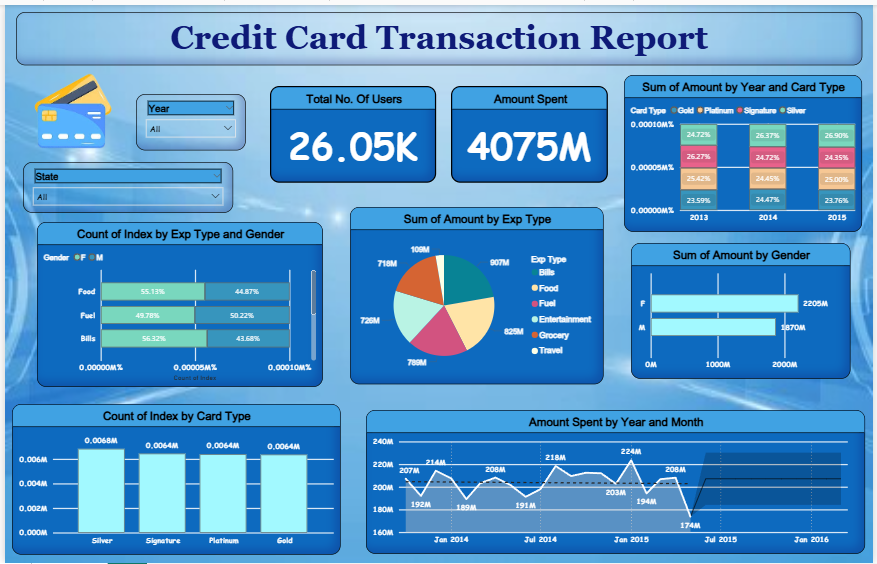

The dashboard page shown, as its layout file describes it:
{"tool":"powerbi","page":{"name":"Page 1","canvas":[1400,900],"ordinal":0},"visuals":[{"type":"clusteredColumnChart","fields":{"Category":["Credit card transactions - India - Simple.Card Type"],"Y":["Count(Credit card transactions - India - Simple.Index)"]},"box":[11.9,642.9,529.8,242.6],"z":0},{"type":"hundredPercentStackedBarChart","fields":{"Category":["Credit card transactions - India - Simple.Exp Type"],"Y":["Count(Credit card transactions - India - Simple.Index)"],"Series":["Credit card transactions - India - Simple.Gender"]},"box":[52.1,349.7,461.3,266.4],"z":1000},{"type":"hundredPercentStackedColumnChart","fields":{"Category":["Credit card transactions - India - Simple.Year"],"Y":["Sum(Credit card transactions - India - Simple.Amount)"],"Series":["Credit card transactions - India - Simple.Card Type"]},"box":[998.5,113.1,383.9,253],"z":2000},{"type":"clusteredBarChart","fields":{"Category":["Credit card transactions - India - Simple.Gender"],"Y":["Sum(Credit card transactions - India - Simple.Amount)"]},"box":[1008.9,383.9,354.2,218.8],"z":3000},{"type":"card","title":"Amount Spent","fields":{"Values":["Sum(Credit card transactions - India - Simple.Amount)"]},"box":[720.1,131,253,156.3],"z":4000},{"type":"pieChart","fields":{"Category":["Credit card transactions - India - Simple.Exp Type"],"Y":["Sum(Credit card transactions - India - Simple.Amount)"]},"box":[556.6,325.9,409.2,285.7],"z":5000},{"type":"card","title":"Total No. Of Users","fields":{"Values":["Count(Credit card transactions - India - Simple.Index)"]},"box":[426.9,131,267.9,156.3],"z":6000},{"type":"textbox","box":[17.9,11.9,1364.6,86.3],"z":7000},{"type":"lineChart","title":"Amount Spent by Year and Month","fields":{"Y":["Sum(Credit card transactions - India - Simple.Amount)"],"Category":["Credit card transactions - India - Simple.Date.Variation.Date Hierarchy.Year","Credit card transactions - India - Simple.Date.Variation.Date Hierarchy.Month"]},"box":[581.8,653.3,805.1,232.1],"z":8000},{"type":"slicer","fields":{"Values":["Credit card transactions - India - Simple.Date.Variation.Date Hierarchy.Year"]},"box":[211.3,142.9,177.1,90.8],"z":9000},{"type":"slicer","fields":{"Values":["Credit card transactions - India - Simple.State"]},"box":[29.8,253,339.3,81.8],"z":10000},{"type":"image","box":[13.4,98.2,193.5,150.3],"z":11000}]}

Visuals, with their boxes in screenshot pixels (x1, y1, x2, y2), scaled from the page's 1400x900 canvas onto the 877x564 screenshot:
clusteredColumnChart - Credit card transactions - India - Simple.Card Type x Count(Credit card transactions - India - Simple.Index): 7, 403, 339, 555
hundredPercentStackedBarChart - Credit card transactions - India - Simple.Exp Type x Count(Credit card transactions - India - Simple.Index): 33, 219, 322, 386
hundredPercentStackedColumnChart - Credit card transactions - India - Simple.Year x Sum(Credit card transactions - India - Simple.Amount): 625, 71, 866, 229
clusteredBarChart - Credit card transactions - India - Simple.Gender x Sum(Credit card transactions - India - Simple.Amount): 632, 241, 854, 378
"Amount Spent" card: 451, 82, 610, 180
pieChart - Credit card transactions - India - Simple.Exp Type x Sum(Credit card transactions - India - Simple.Amount): 349, 204, 605, 383
"Total No. Of Users" card: 267, 82, 435, 180
textbox: 11, 7, 866, 62
"Amount Spent by Year and Month" lineChart: 364, 409, 869, 555
slicer - Credit card transactions - India - Simple.Date.Variation.Date Hierarchy.Year: 132, 90, 243, 146
slicer - Credit card transactions - India - Simple.State: 19, 159, 231, 210
image: 8, 62, 130, 156
